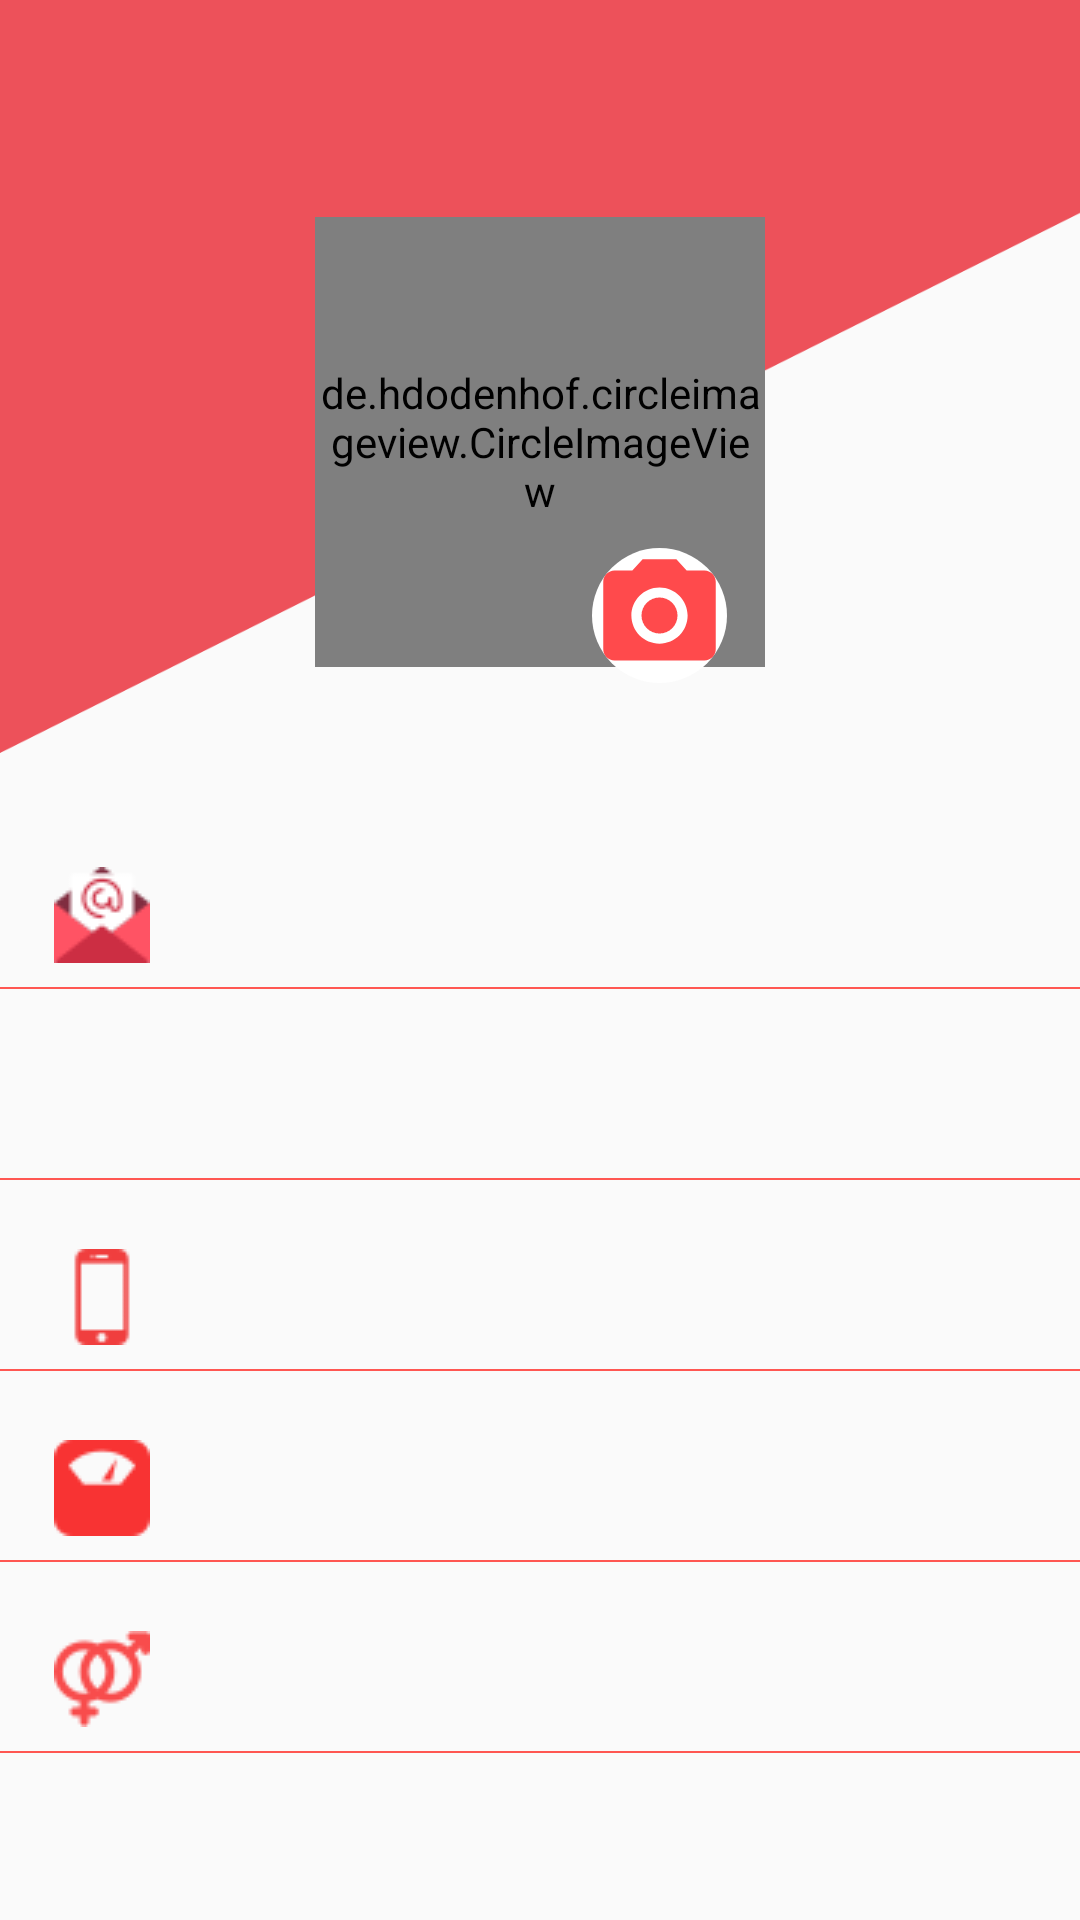

Icons on this 1080 × 1920 Android screen, each with its box as (x1, y1, x2, y2):
photo camera: (592, 548, 727, 683)
